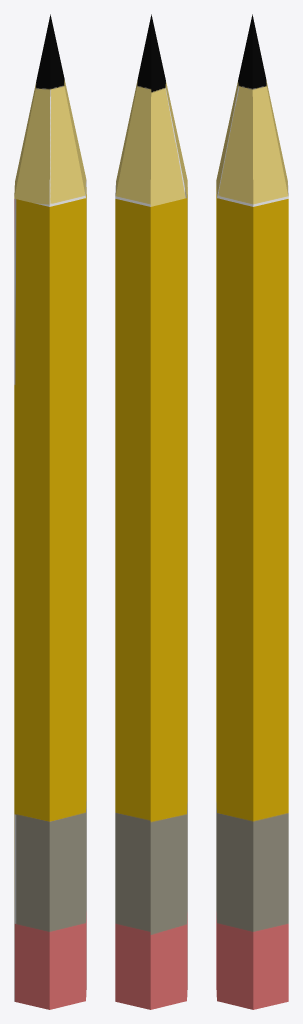
Rendered from Pencil.fbx.
3 renders of one model, left to right at view 1: azimuth 30°, elevation 25°; view 2: azimuth 210°, elevation 25°; view 3: azimuth 330°, elevation 25°, orthographic.
Visible parts, largest first — view 1: pCylinder1; view 2: pCylinder1; view 3: pCylinder1.
Part boxes in pixels (x1=…): pCylinder1: x1=14, y1=14, x2=86, y2=1009; pCylinder1: x1=115, y1=14, x2=187, y2=1009; pCylinder1: x1=216, y1=14, x2=288, y2=1009.
Size of the model in its own units: 1.37 by 17.63 by 1.13.
Materials: 1 (1 with a texture image).
